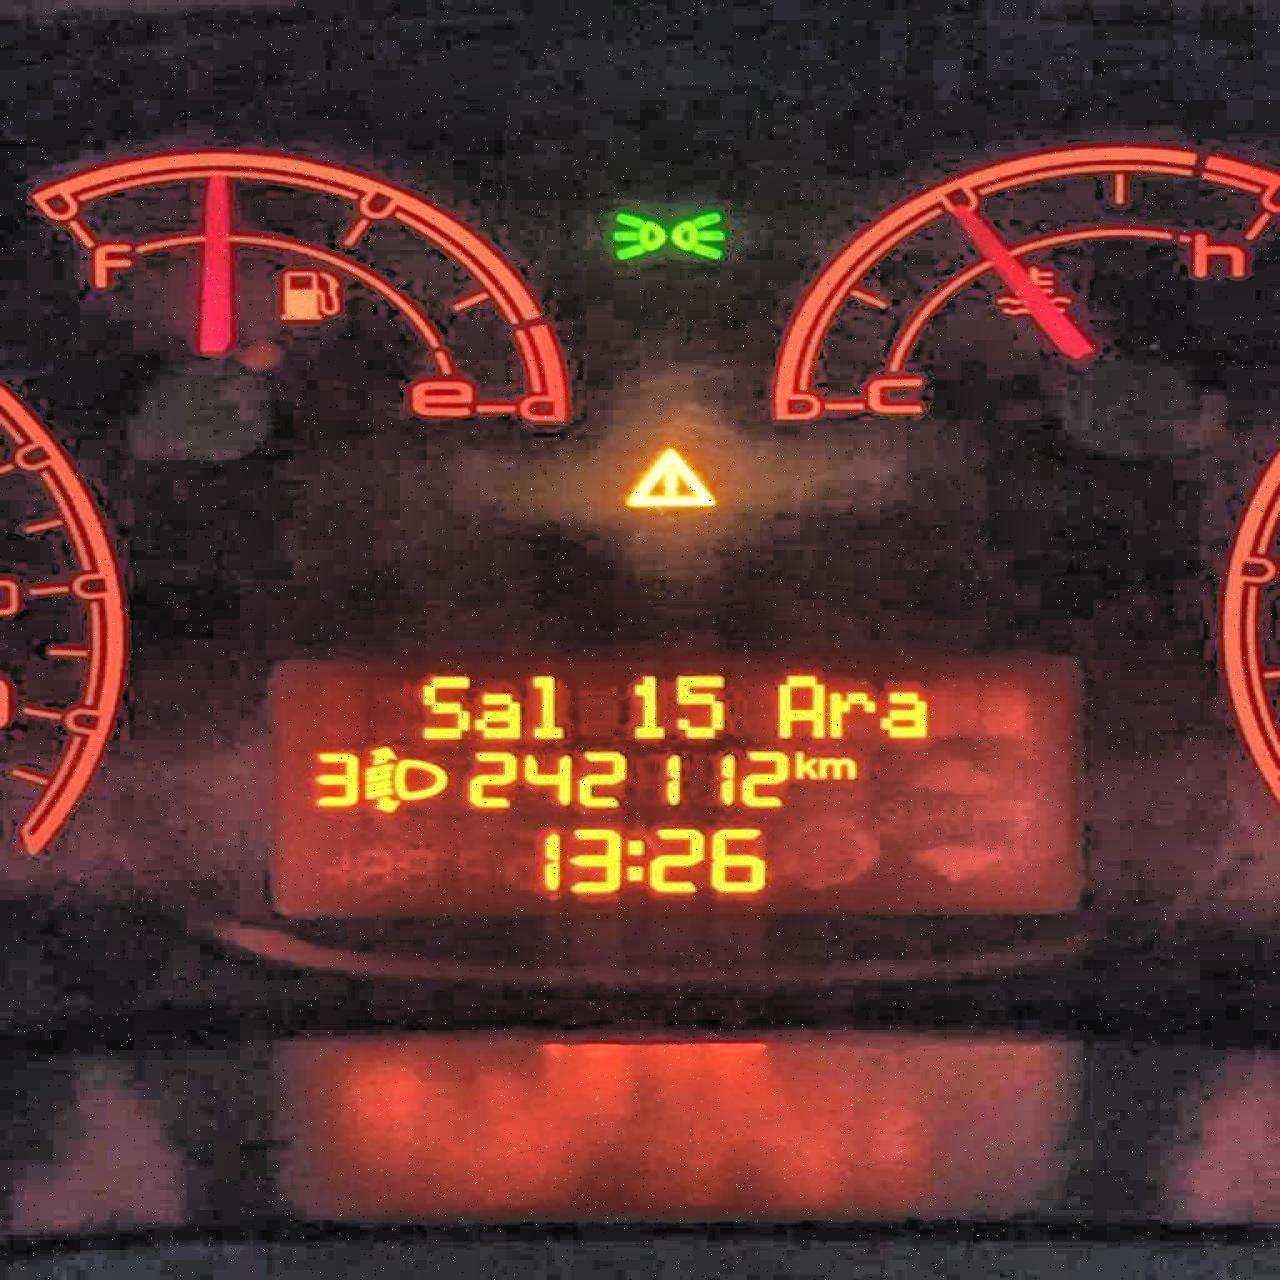1: (629, 666, 665, 740), (537, 821, 564, 896), (655, 748, 683, 809), (716, 750, 735, 809)
2: (651, 823, 704, 896), (464, 751, 513, 817), (738, 744, 787, 811), (577, 744, 625, 810)
3: (568, 825, 620, 897), (309, 747, 360, 812)
4: (519, 749, 573, 810)
5: (672, 670, 728, 740)
6: (707, 824, 768, 896)
X: (775, 669, 826, 742), (421, 670, 471, 741), (524, 669, 568, 747), (881, 689, 926, 742), (478, 692, 524, 742), (826, 688, 876, 734), (621, 832, 647, 887), (818, 754, 858, 783), (788, 749, 817, 782)
odometer: (264, 653, 1084, 919)
